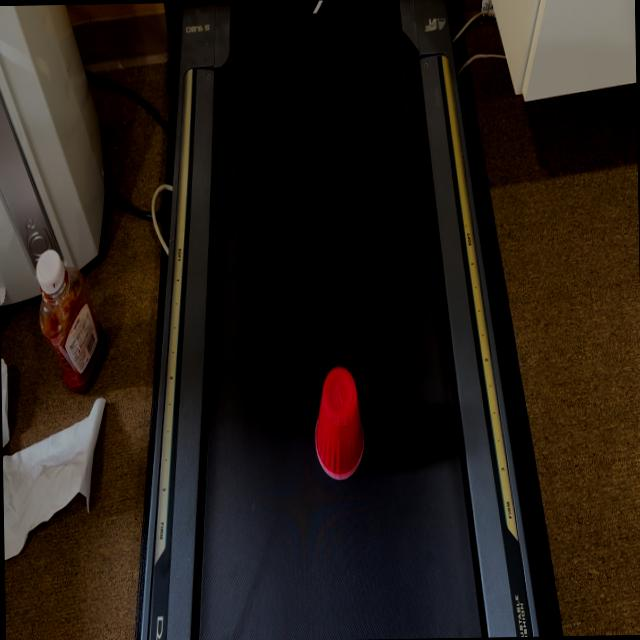Recycle: (313, 364, 366, 480)
